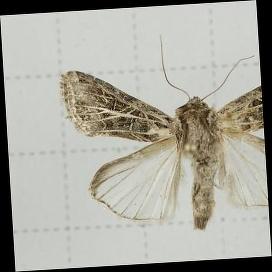Spodoptera litura: (63, 34, 264, 234)
